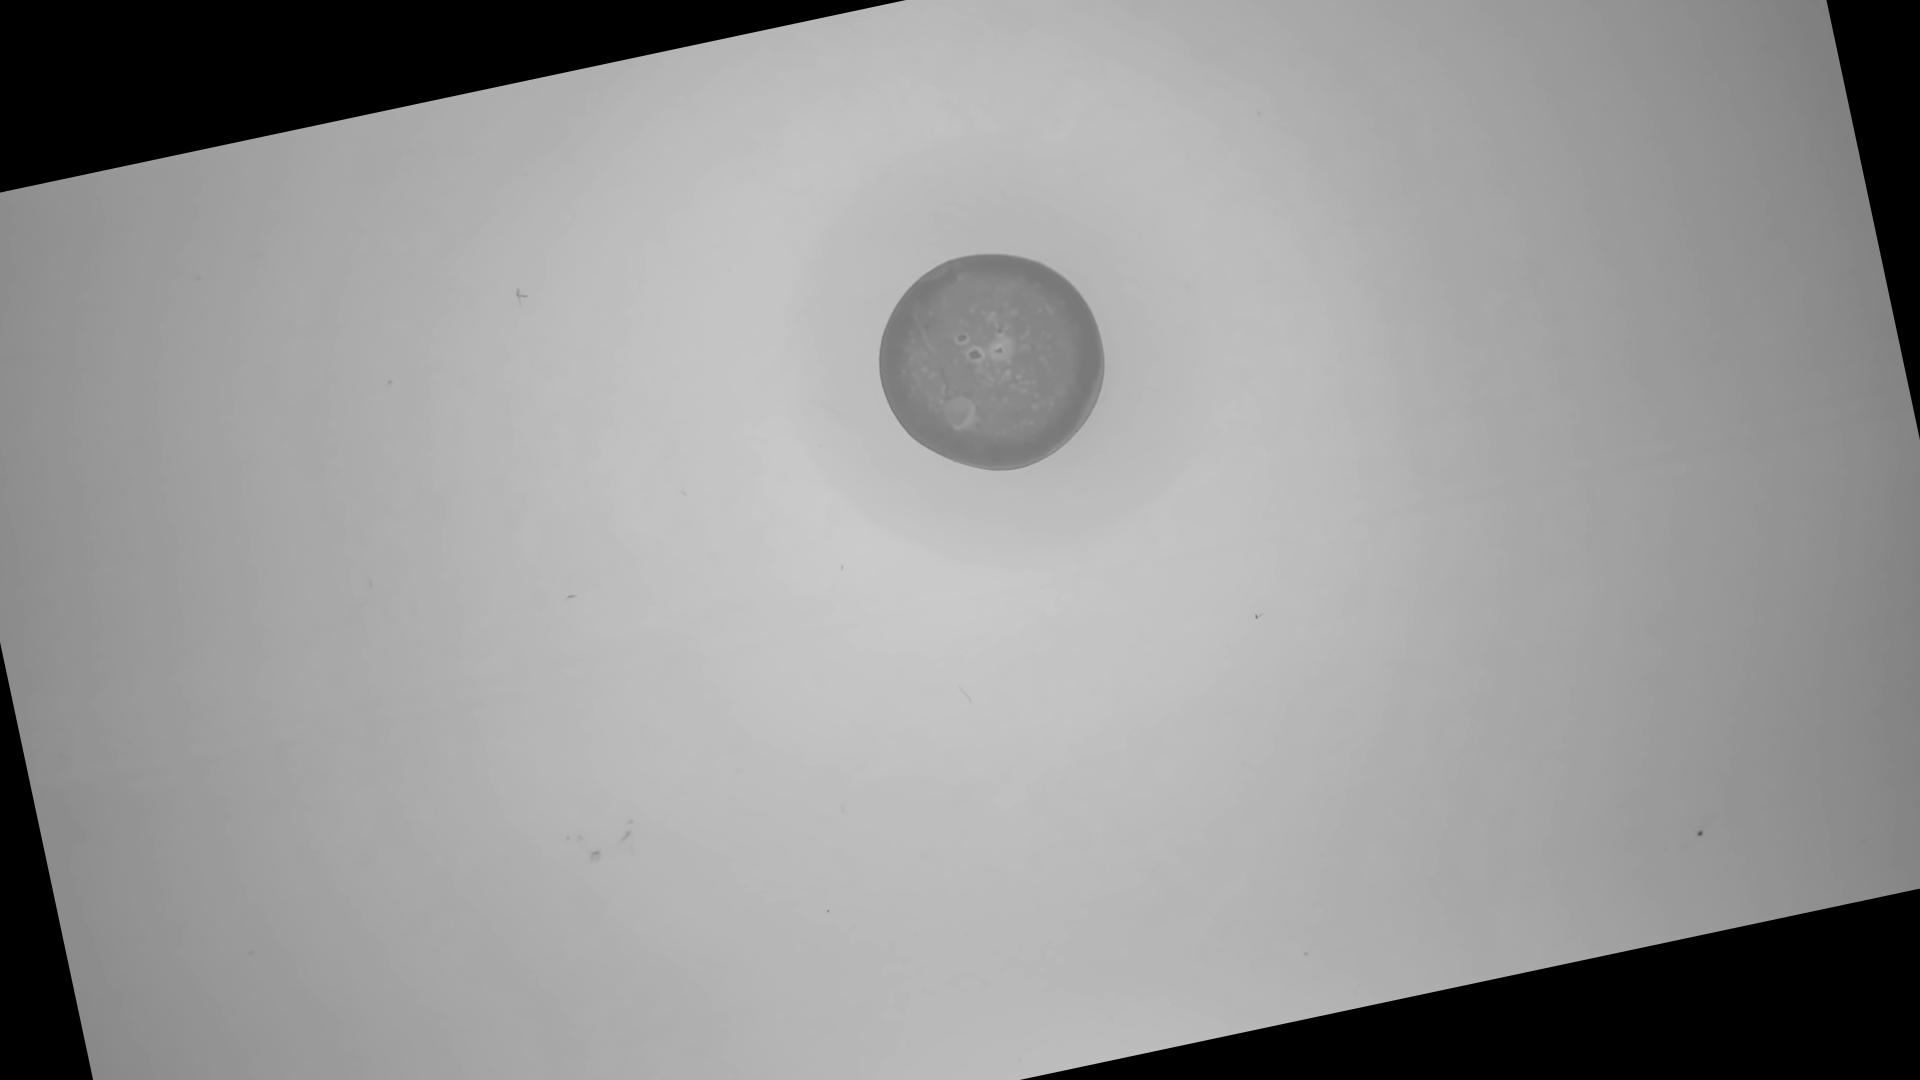abnormal: (855, 225, 1129, 497)
